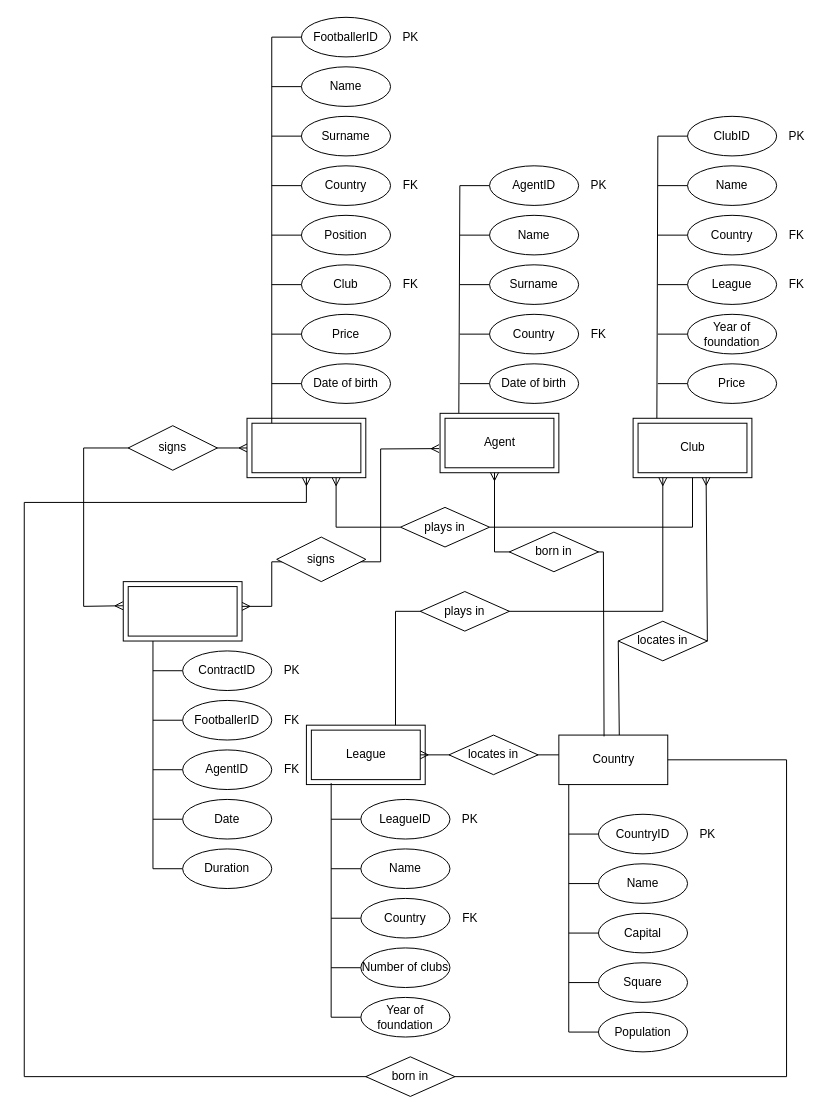
Image size: 834x1114. Some labels were removed from this diagram. The shapes that lost their labels are listed below. From the top down, each one's centre as x and y in pixels, then its label:
the point at 306,447: Footballer
the point at 182,611: Contract
